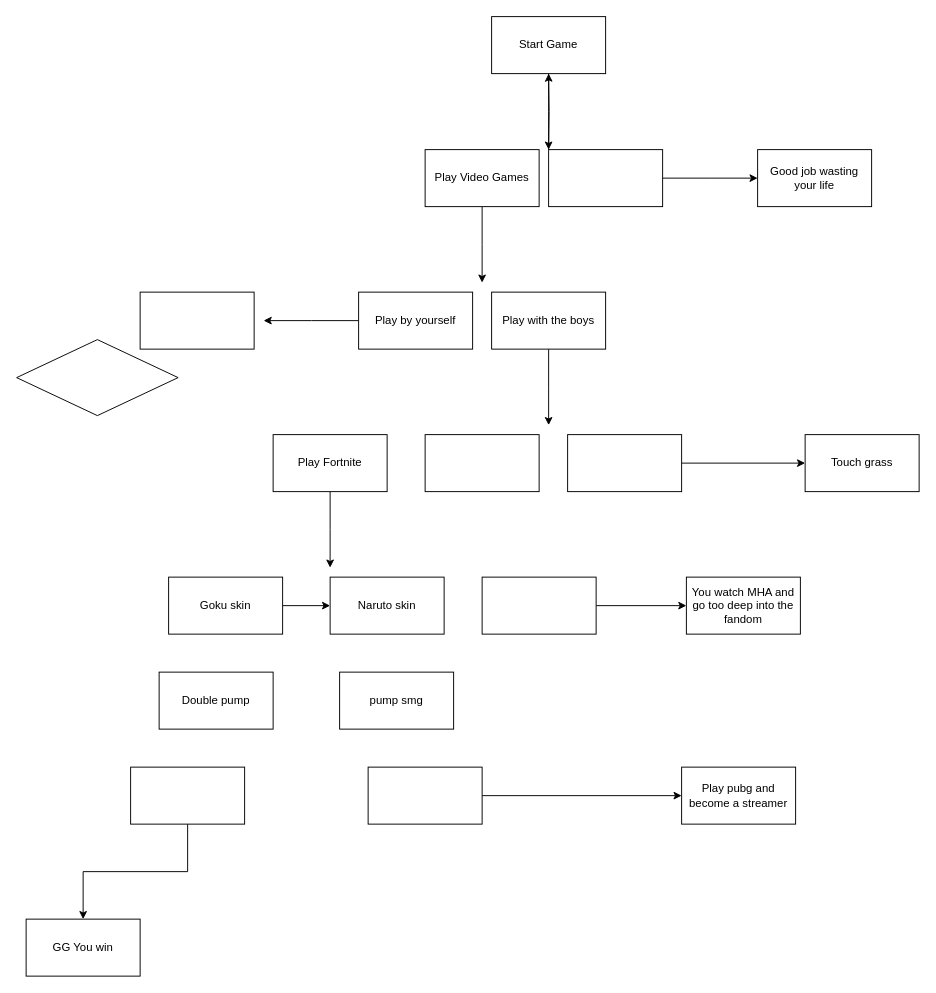
The diagram is 936 pixels wide and 993 high, and some of its shapes have lost their labels. The centre of each missing label's shape, as x and y in pixels:
become a mobile gamer: (x=424, y=795)
Become an Epic gamer and get a victory royale: (x=187, y=795)
Deku skin: (x=538, y=605)
Good job being a loner: (x=196, y=320)
Play League of Legends: (x=624, y=463)
Play Rocket League: (x=481, y=463)
Watch TV: (x=605, y=178)
